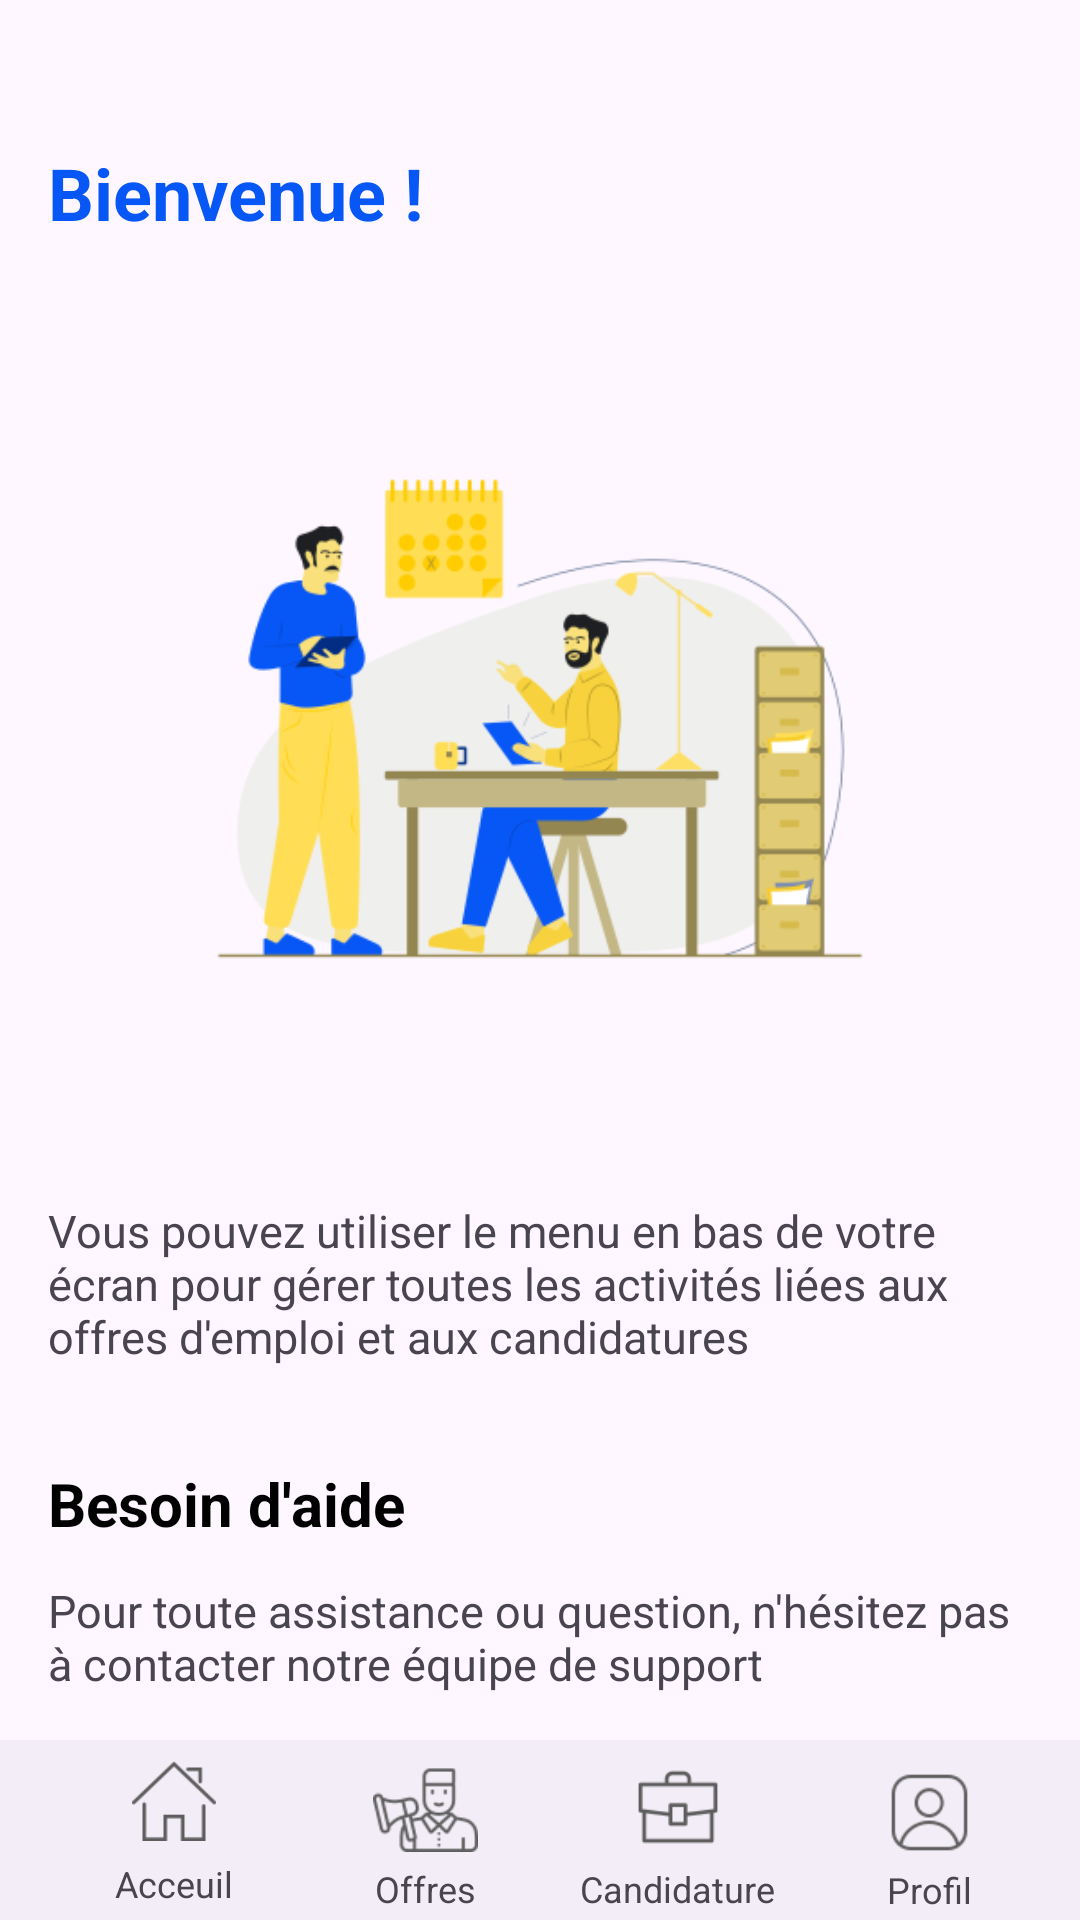

Icons on this 1080w x 1920h Android screen, each with the point to tap as point (x, y):
recruiter: point (425, 1810)
user: point (929, 1812)
